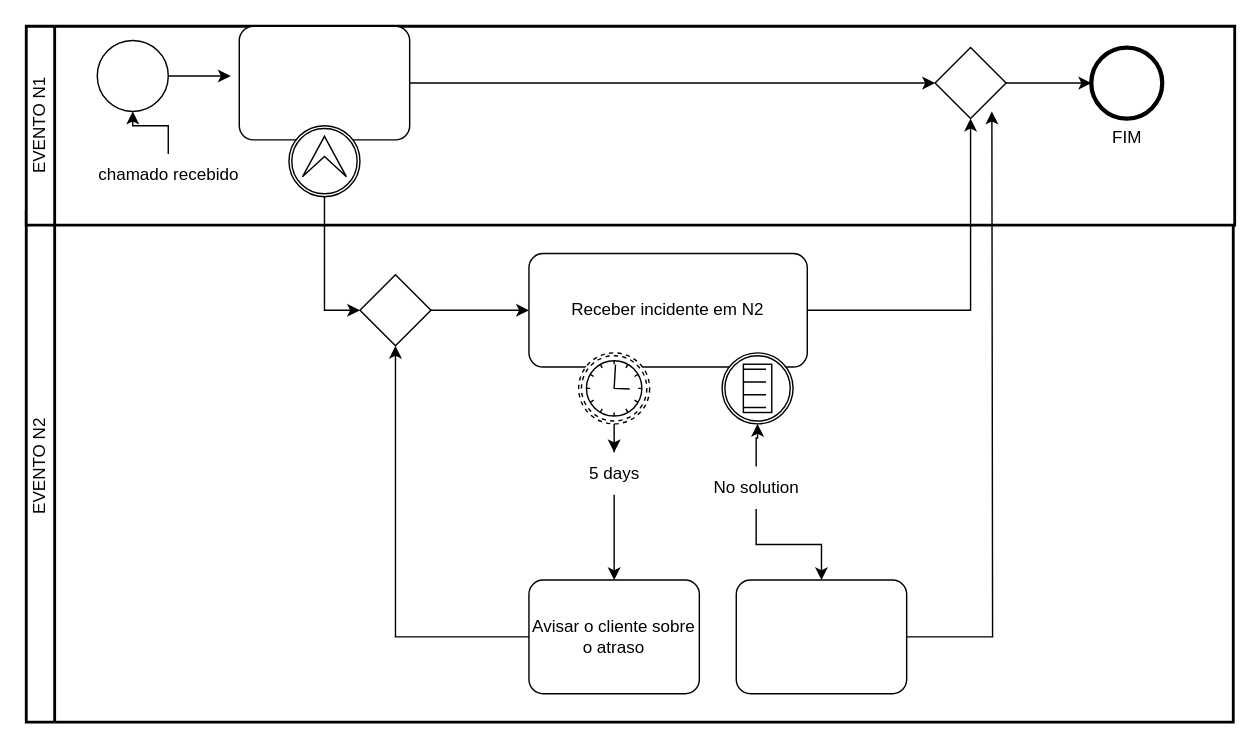
Some shapes in this 1260 by 747 pixel diagram are drawn without their labels. The centre of each missing label's shape, as x and y in pixels:
"Atender o chamado em N1" belongs at pixel 324 82.
"Avisar o cliente sobre o problema" belongs at pixel 821 636.
